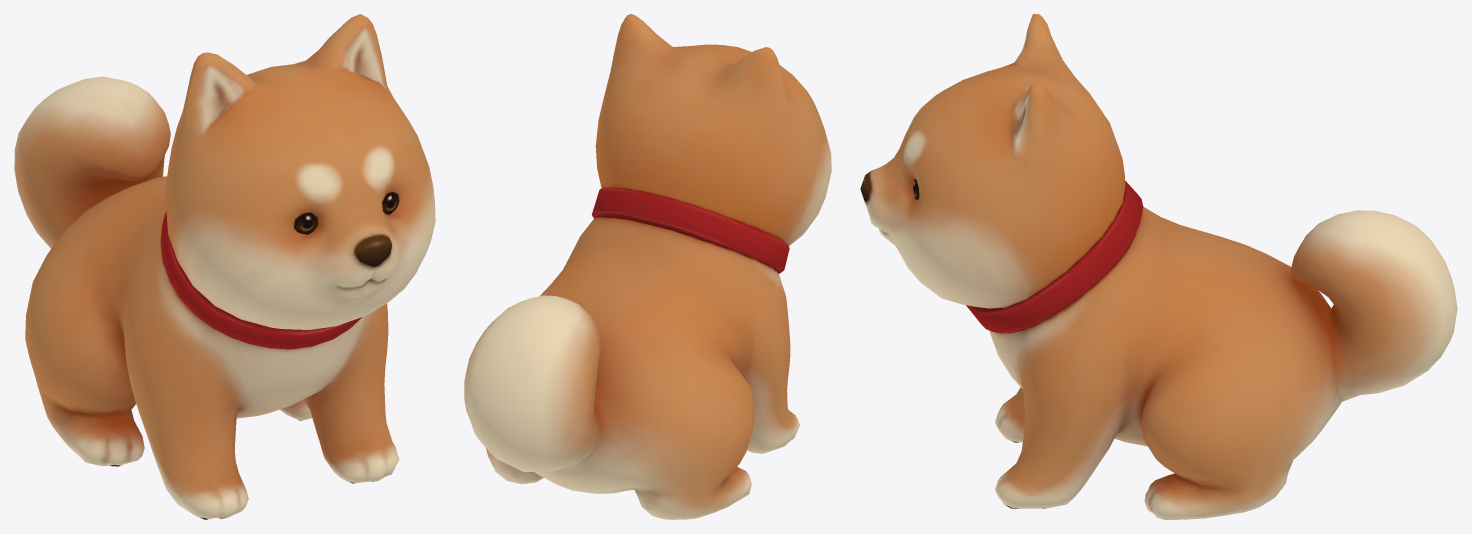
File: pupper-transformed.glb
The picture shows the model from 3 angles, left to right: view 1: azimuth 30°, elevation 25°; view 2: azimuth 150°, elevation 25°; view 3: azimuth 270°, elevation 25°; orthographic projection. The views are drawn at different scales.
Visible parts, largest first — view 1: Box002, Group18985, Object001_default_0; view 2: Box002, Group18985; view 3: Box002, Group18985.
Boxes of the visible parts, x1=… form: Box002: x1=14, y1=14, x2=435, y2=519; Group18985: x1=160, y1=211, x2=362, y2=349; Object001_default_0: x1=294, y1=192, x2=399, y2=234; Box002: x1=464, y1=14, x2=831, y2=519; Group18985: x1=591, y1=188, x2=789, y2=273; Box002: x1=860, y1=14, x2=1457, y2=519; Group18985: x1=966, y1=180, x2=1143, y2=333.
Size of the model in its own units: 0.9208 by 1.38 by 1.77.
Materials: 1 (1 with a texture image).
